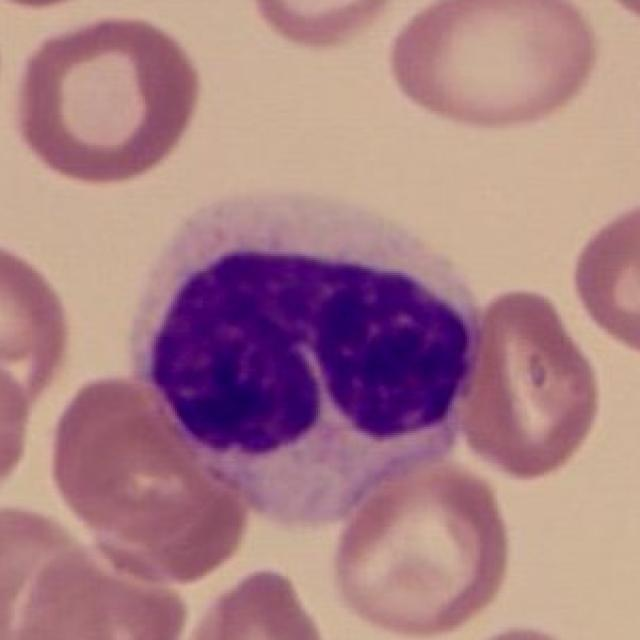WBC: (122, 175, 495, 540)
